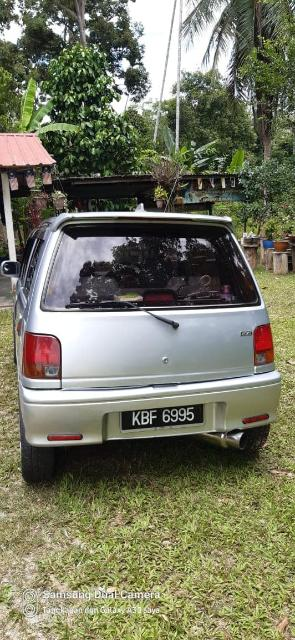License_Plate: (125, 407, 205, 432)
car: (7, 213, 281, 474)
